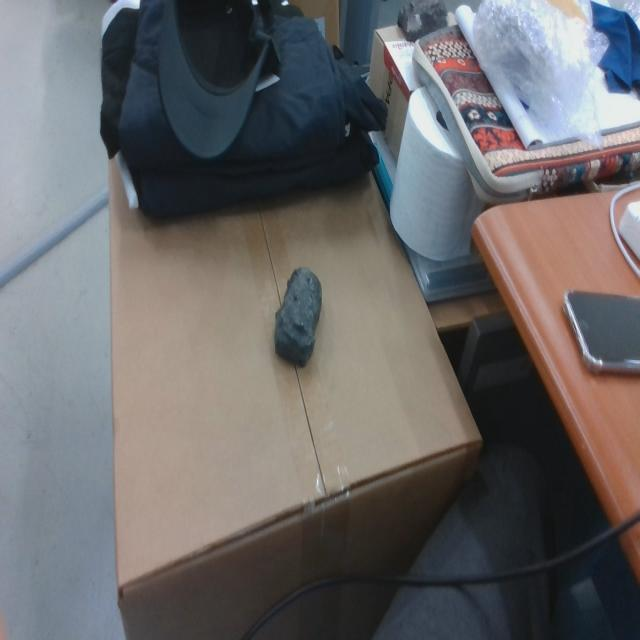stone: (275, 266, 322, 369)
